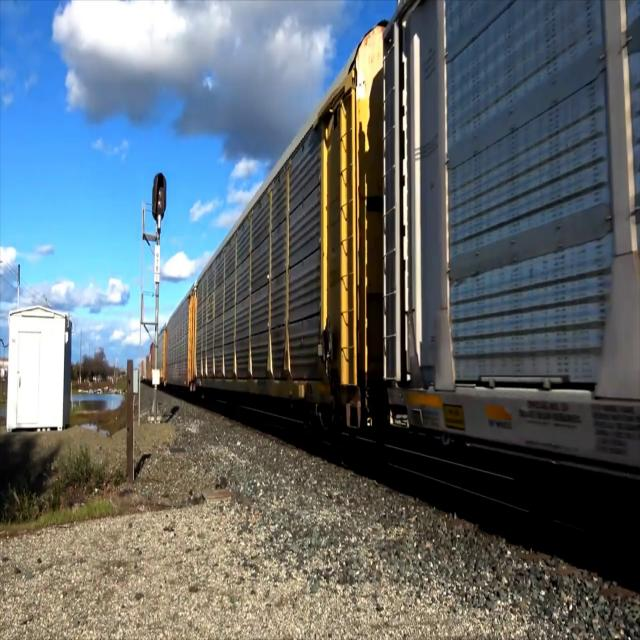autorack: (379, 0, 640, 520), (196, 15, 375, 446), (166, 280, 193, 394)
